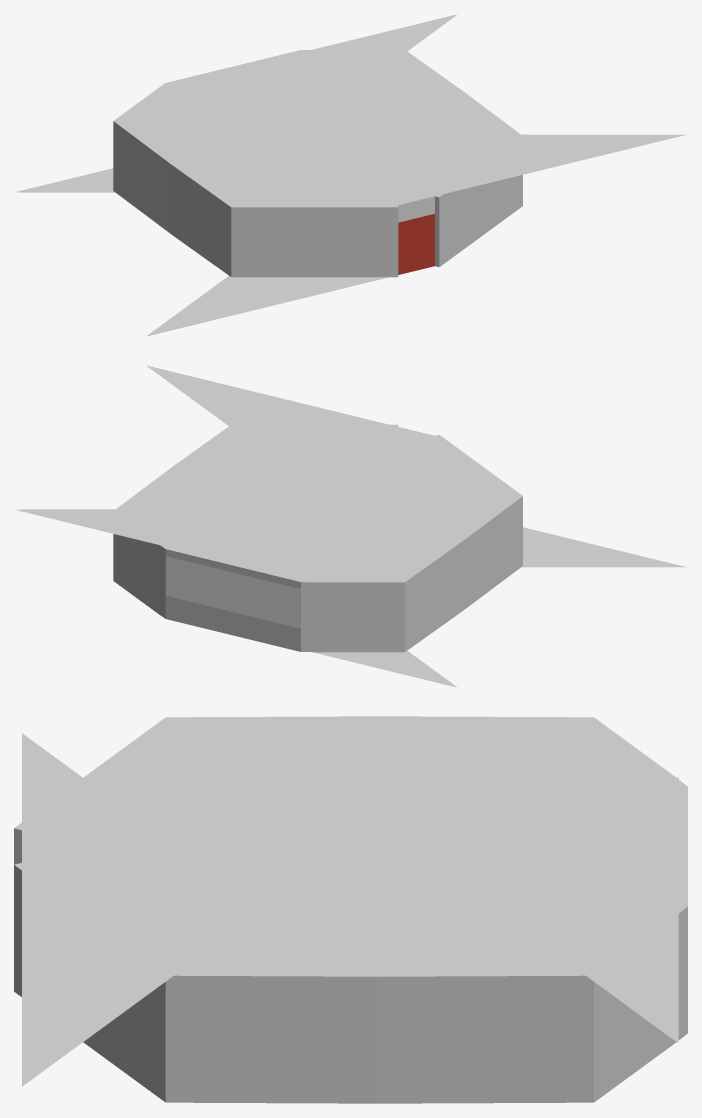
Rendered from cockpit.glb.
3 views of the same model, one above another, from view 1: azimuth 30°, elevation 25°; view 2: azimuth 150°, elevation 25°; view 3: azimuth 270°, elevation 25° (orthographic). The views are drawn at different scales.
Parts seen in each view (by area): view 1: Cube; view 2: Cube; view 3: Cube.
Boxes of the visible parts, <box> form: Cube: <box>15,14,686,336</box>; Cube: <box>15,365,686,687</box>; Cube: <box>14,716,687,1103</box>.
Size of the model in its own units: 48.72 by 6.12 by 28.87.
